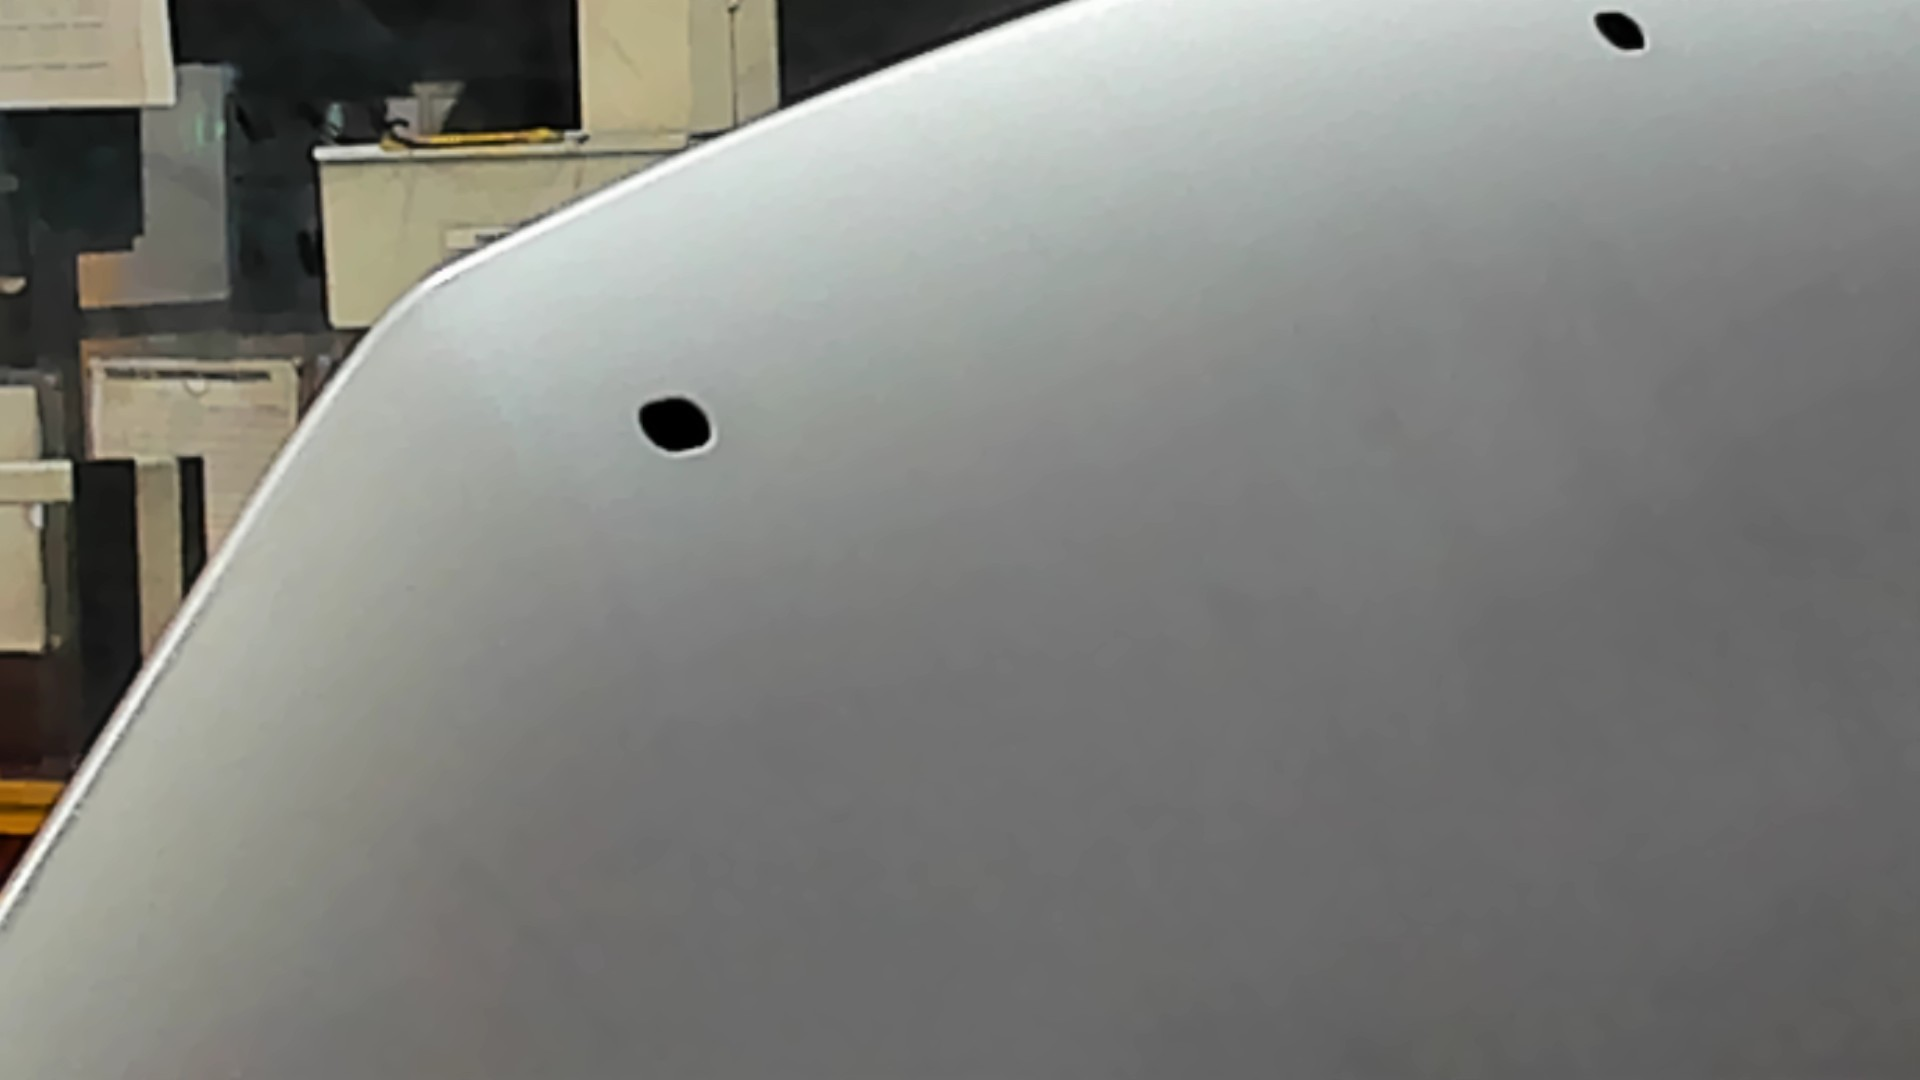Agujero: (628, 390, 723, 462), (1584, 1, 1651, 61)
